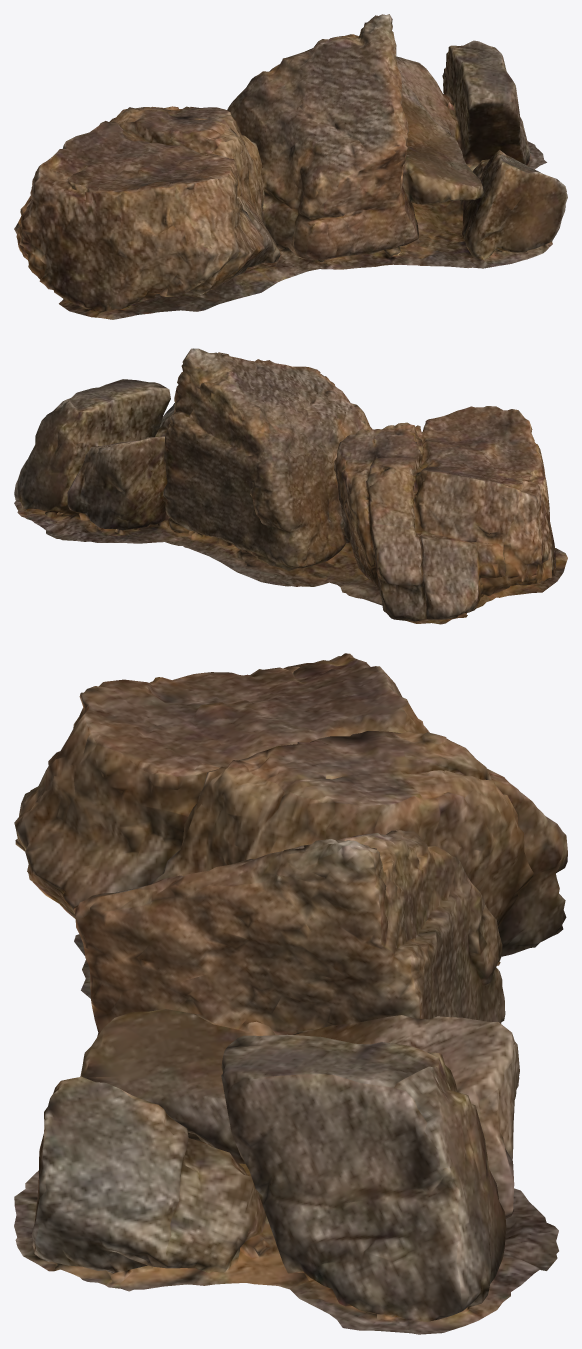
Rendered from namaqualand_boulder_02.glb.
3 views of the same model, one above another, from view 1: azimuth 30°, elevation 25°; view 2: azimuth 150°, elevation 25°; view 3: azimuth 270°, elevation 25° (orthographic). The views are drawn at different scales.
Parts seen in each view (by area): view 1: boulder_02; view 2: boulder_02; view 3: boulder_02.
Part boxes in pixels (x1,y1,x2,y2): boulder_02: (14, 14, 567, 319); boulder_02: (14, 348, 567, 624); boulder_02: (14, 653, 567, 1334).
Bounding box in the file's own units: 2.53 × 0.8826 × 1.23.
Materials: 1 (1 with a texture image).
